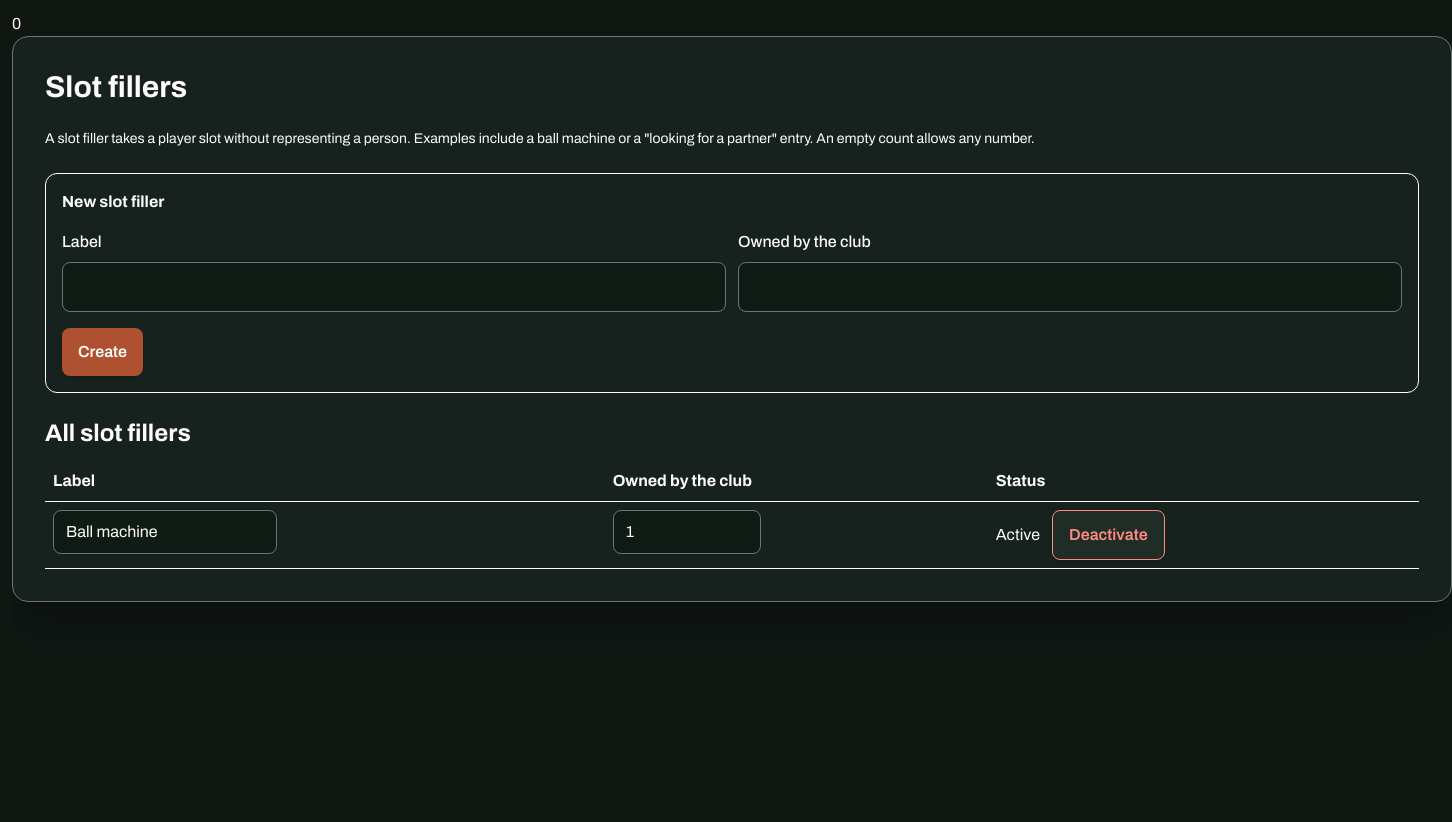
Test case: AdminSlotFillersView › given an edited label, when the edit is discarded, then the stored value returns
Type " changed" into the field with test id "edit-participant-card-label-filler-1". click: {"x": 165, "y": 532}
box: [53,510,277,554]
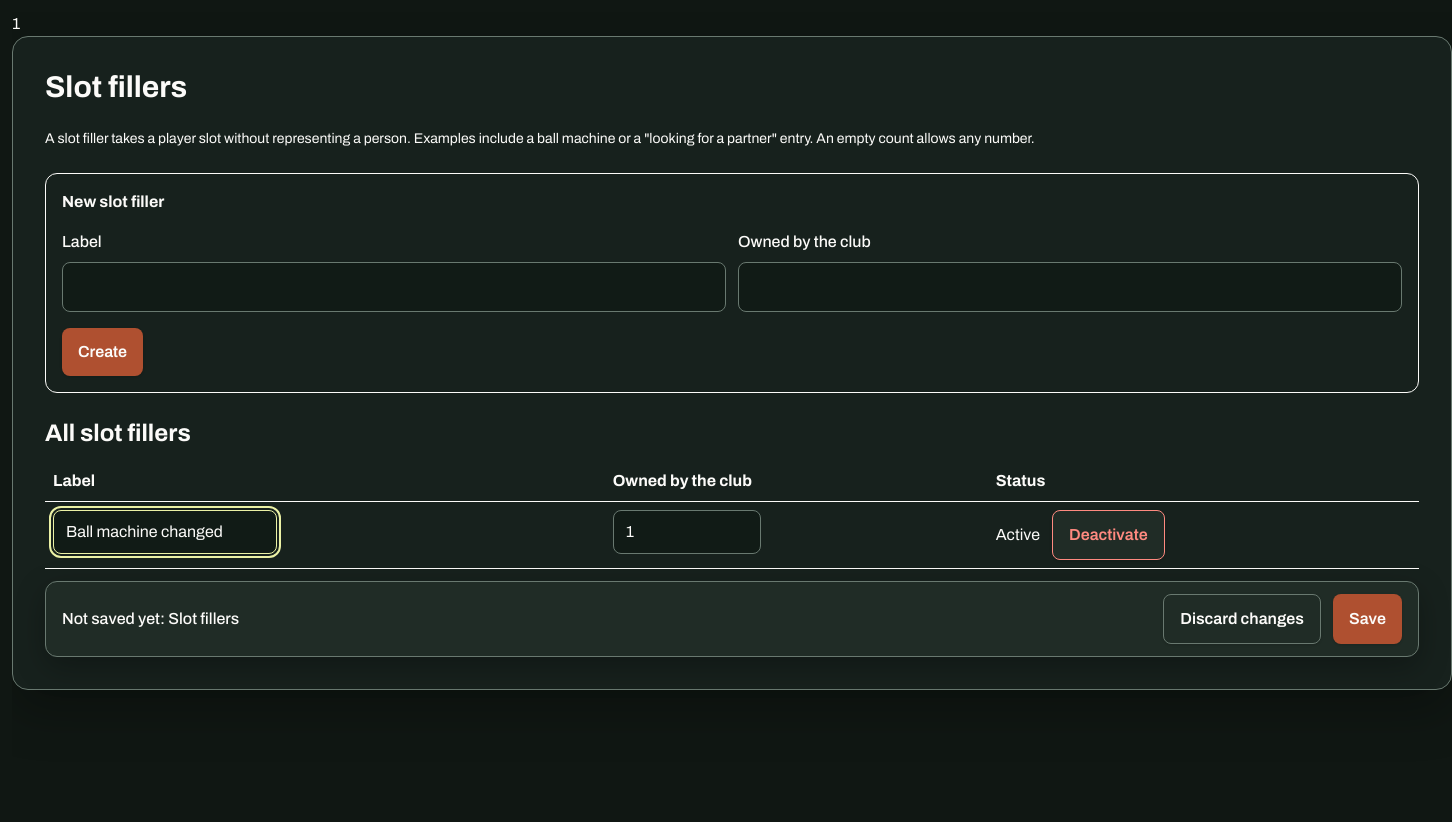
Click the button with test id "discard-slot-fillers". click: {"x": 1242, "y": 619}
box: [1163,594,1321,644]
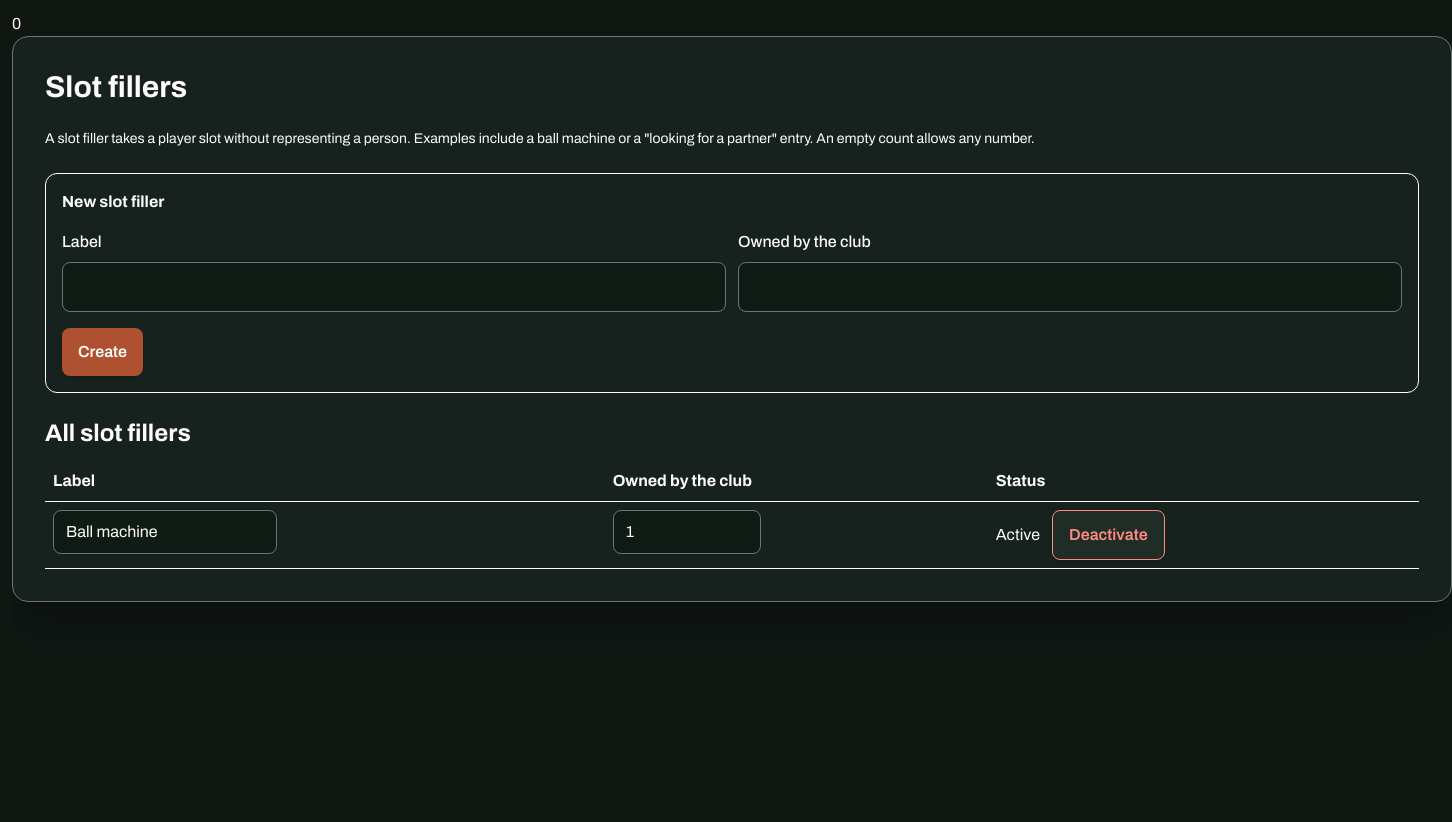
Now the field with test id "edit-participant-card-label-filler-1" holds "Ball machine", box [53,510,277,554]
Now the text with test id "unsaved-count" reads "0", box [12,15,21,32]
